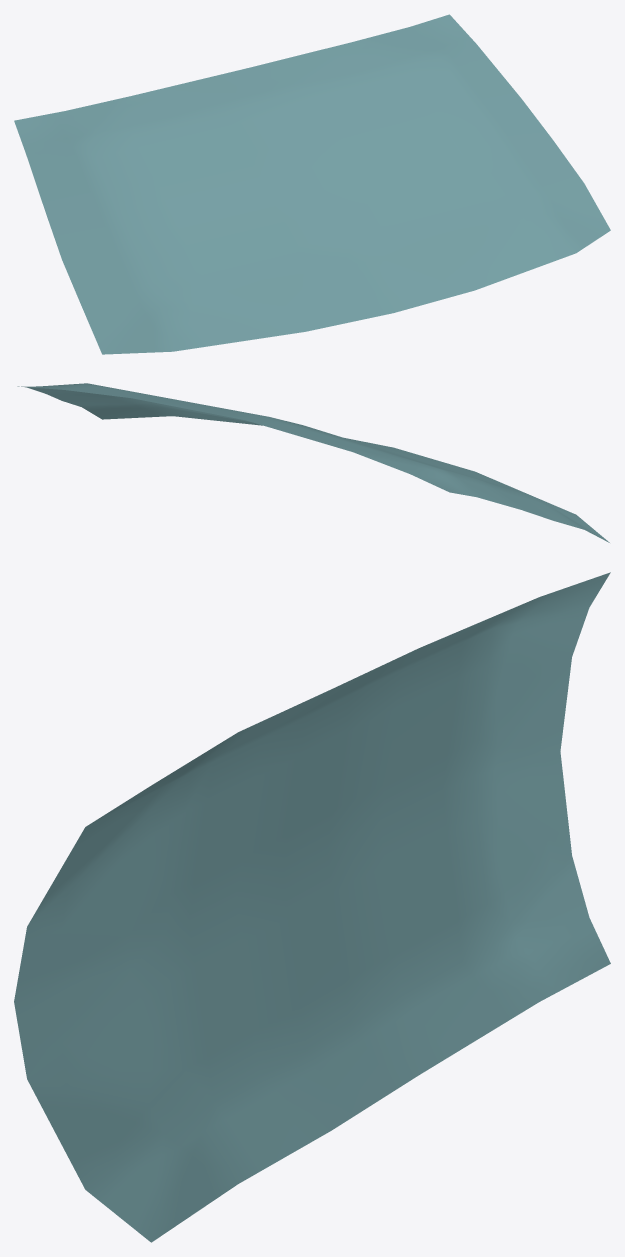
The model's file is SUV_2_Window_F_Tessellate.fbx.
3 views of the same model, one above another, from view 1: azimuth 30°, elevation 25°; view 2: azimuth 150°, elevation 25°; view 3: azimuth 270°, elevation 25° (orthographic). The views are drawn at different scales.
Parts seen in each view (by area): view 1: SUV_2_Window_F_Tessellate; view 2: SUV_2_Window_F_Tessellate; view 3: SUV_2_Window_F_Tessellate.
Boxes of the visible parts, x1,y1,x2,y2 form: SUV_2_Window_F_Tessellate: (14, 14, 610, 354); SUV_2_Window_F_Tessellate: (17, 383, 609, 542); SUV_2_Window_F_Tessellate: (14, 572, 610, 1242).
Bounding box in the file's own units: 162 × 43.29 × 89.19.
